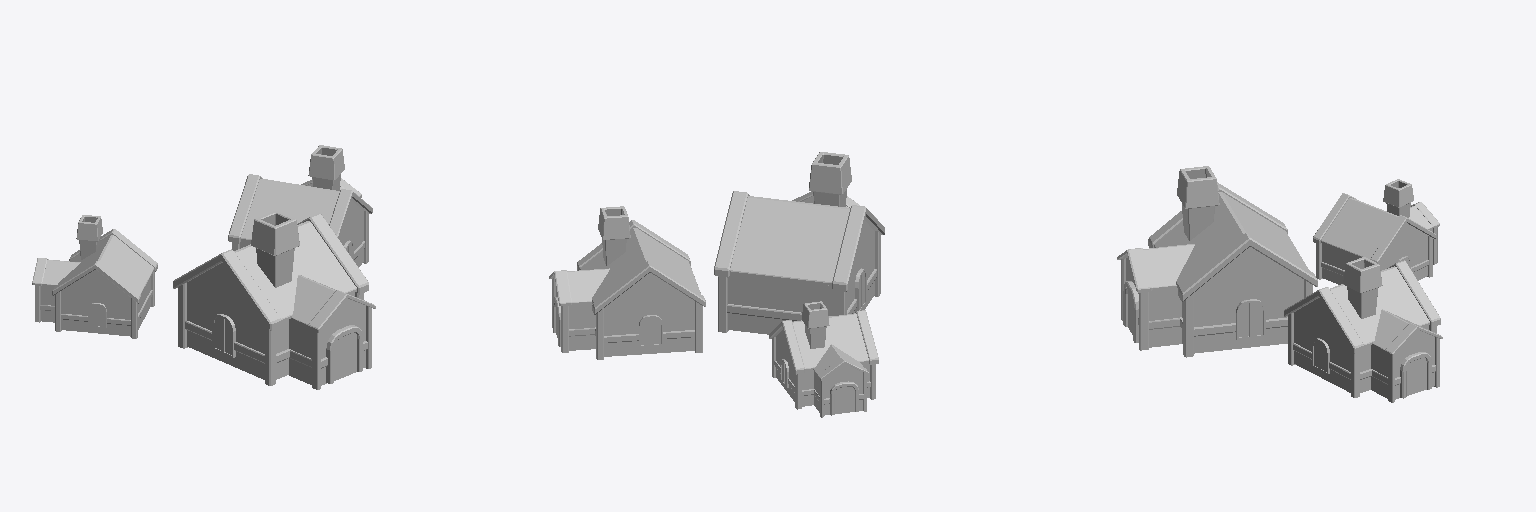
File: house_01.obj
The picture shows the model from 3 angles: view 1: azimuth 30°, elevation 25°; view 2: azimuth 150°, elevation 25°; view 3: azimuth 270°, elevation 25°; orthographic projection.
Visible parts, largest first — view 1: house_01.001; view 2: house_01.001; view 3: house_01.001.
Boxes of the visible parts, x1=… form: house_01.001: x1=32, y1=145, x2=375, y2=389; house_01.001: x1=549, y1=152, x2=884, y2=417; house_01.001: x1=1117, y1=166, x2=1442, y2=402.
Bounding box in the file's own units: 0.687 × 0.2915 × 0.5964.